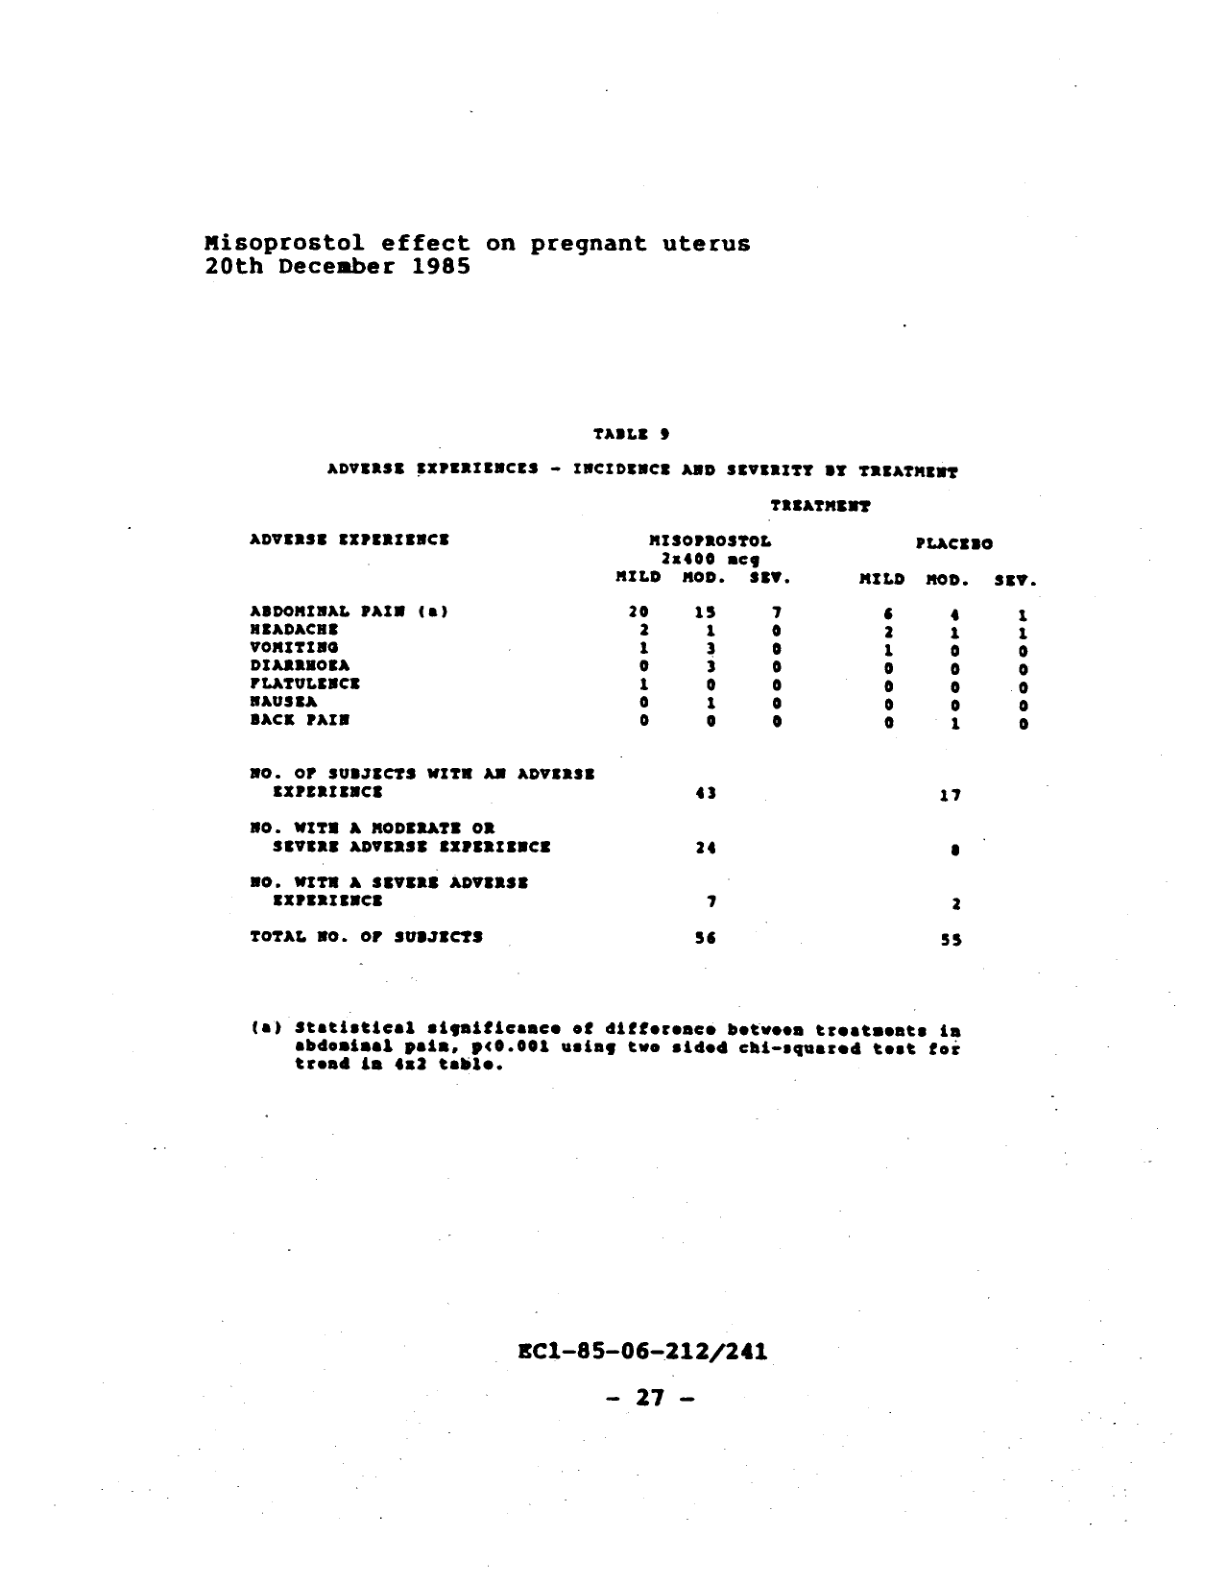nolines: (247, 528, 1038, 950)
